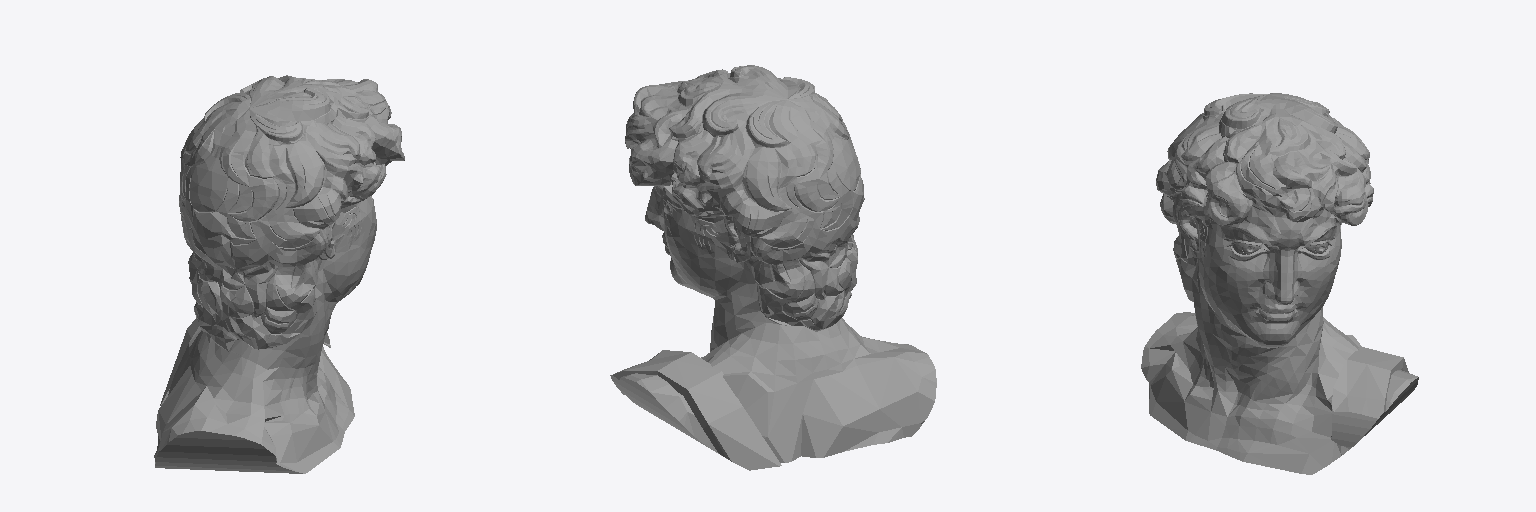
File: david.obj
The picture shows the model from 3 angles: view 1: azimuth 30°, elevation 25°; view 2: azimuth 150°, elevation 25°; view 3: azimuth 270°, elevation 25°; orthographic projection.
Visible parts, largest first — view 1: david; view 2: david; view 3: david.
Boxes of the visible parts, x1=… form: david: x1=154, y1=75, x2=404, y2=473; david: x1=610, y1=65, x2=936, y2=470; david: x1=1141, y1=93, x2=1418, y2=474.
Size of the model in its own units: 1.62 by 1.94 by 1.47.